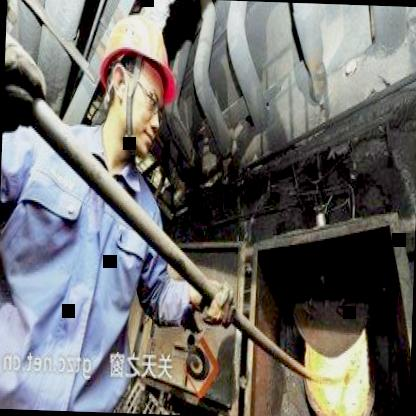helmet: (85, 7, 185, 164)
